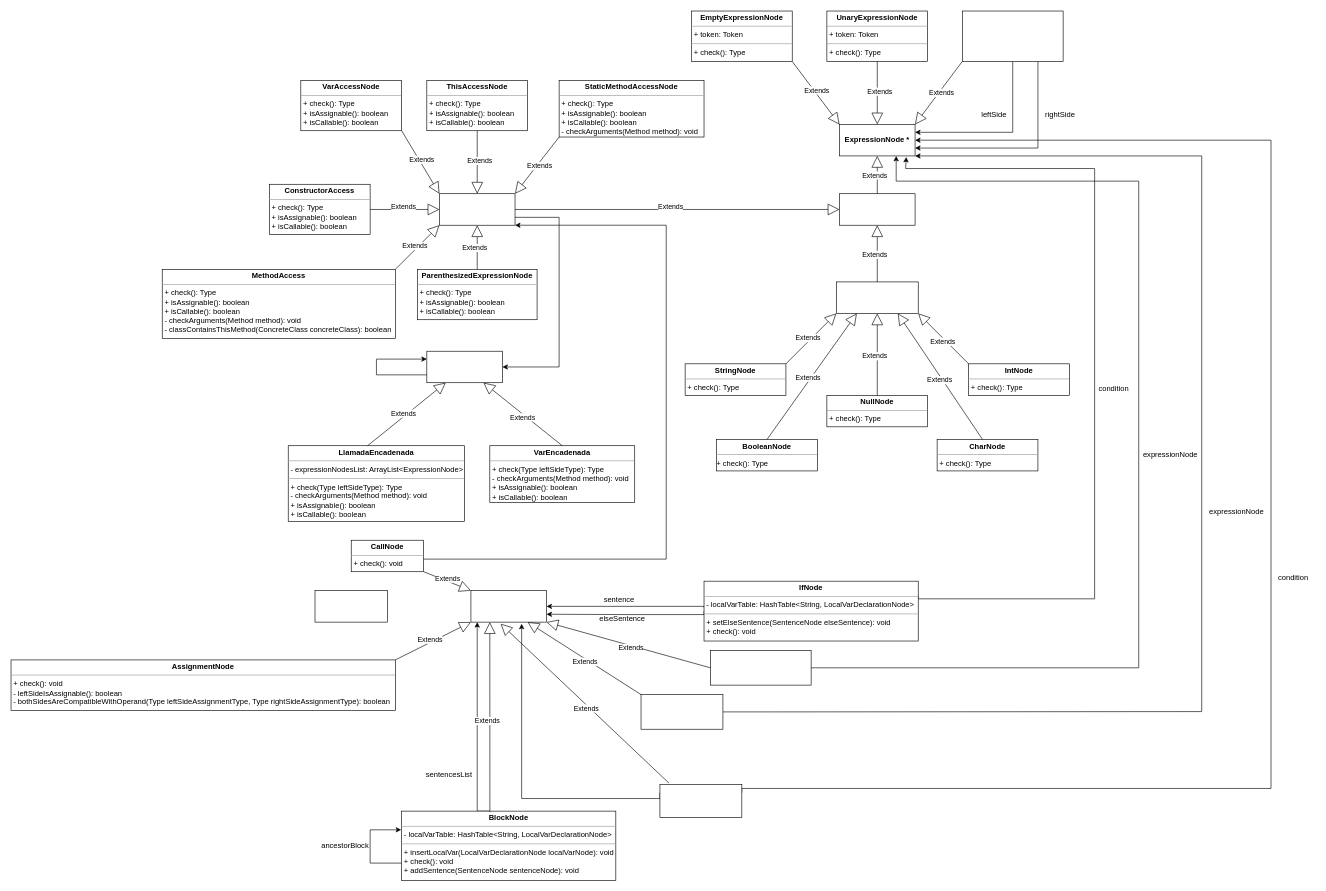
Some shapes in this 1326 by 891 pixel diagram are drawn without their labels. The shapes that lost their labels are listed below. From the top down, each one's box as (x1, y1, x2, y2) in pixels, then its label:
(962, 10, 1063, 61): BinaryExpressionNode + token: Token + check(): Type
(439, 193, 515, 225): AccessNode *
(839, 193, 915, 225): OperandNode *
(836, 281, 918, 313): LiteralOperandNode *
(426, 351, 502, 383): Encadenado *
(314, 590, 387, 622): EmptySentence + check(): void
(470, 590, 547, 622): SentenceNode *
(710, 650, 811, 685): LocalVarDeclarationNode + check(): void
(640, 694, 723, 729): ReturnNode + check(): void
(659, 784, 742, 817): WhileNode + check(): void
